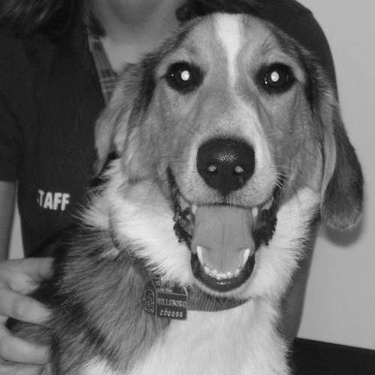dog: (2, 10, 367, 371)
